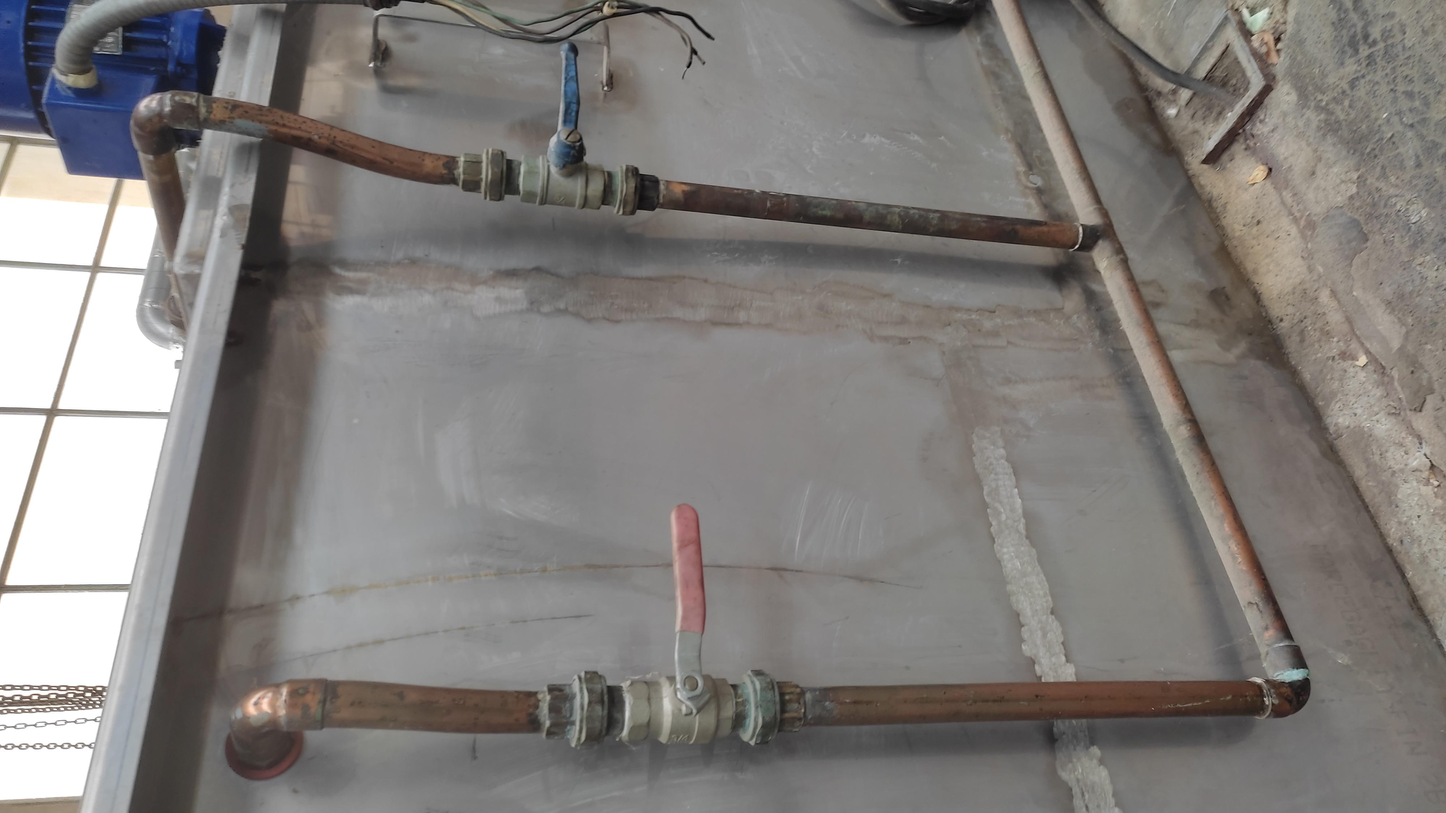closed valve: (620, 501, 737, 748), (518, 40, 609, 212)
